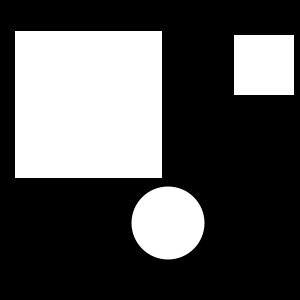circle: (15, 31, 162, 178), (234, 35, 294, 95)
rectangle: (132, 186, 205, 260)
